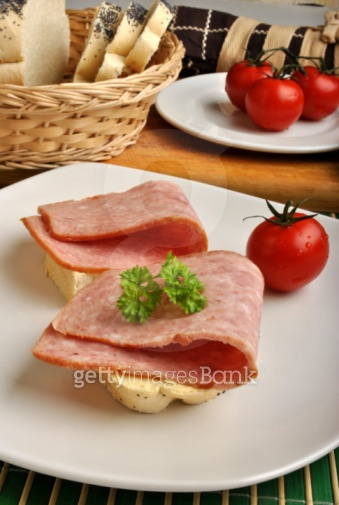slice of bread: (78, 4, 170, 83)
